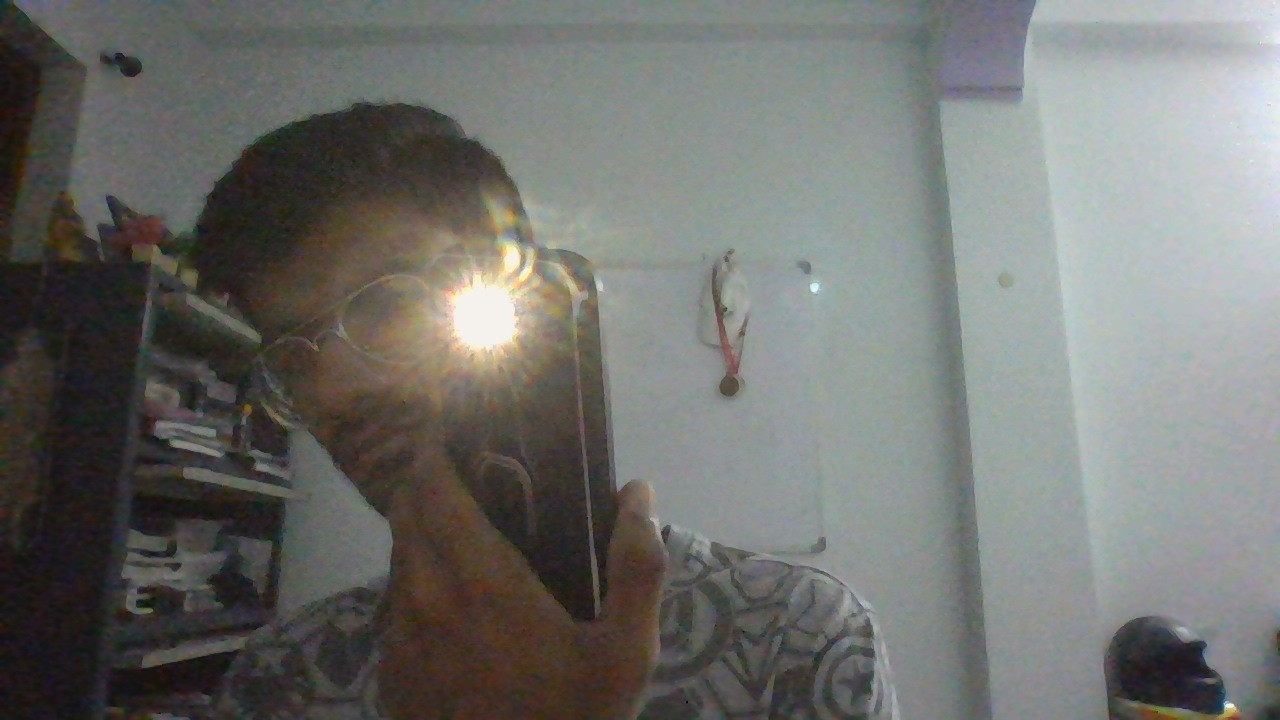Glare: (447, 285, 521, 350)
